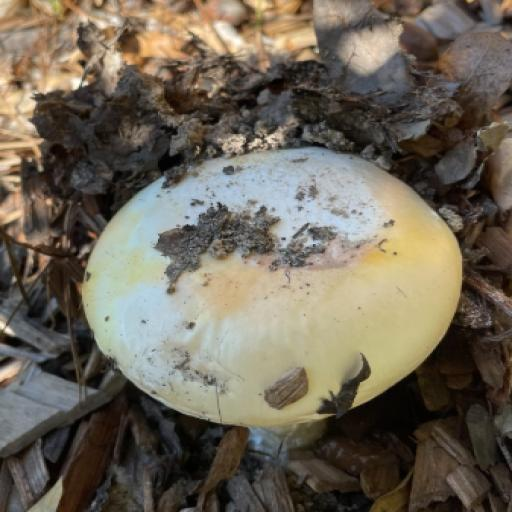mushroom: (87, 151, 461, 416)
